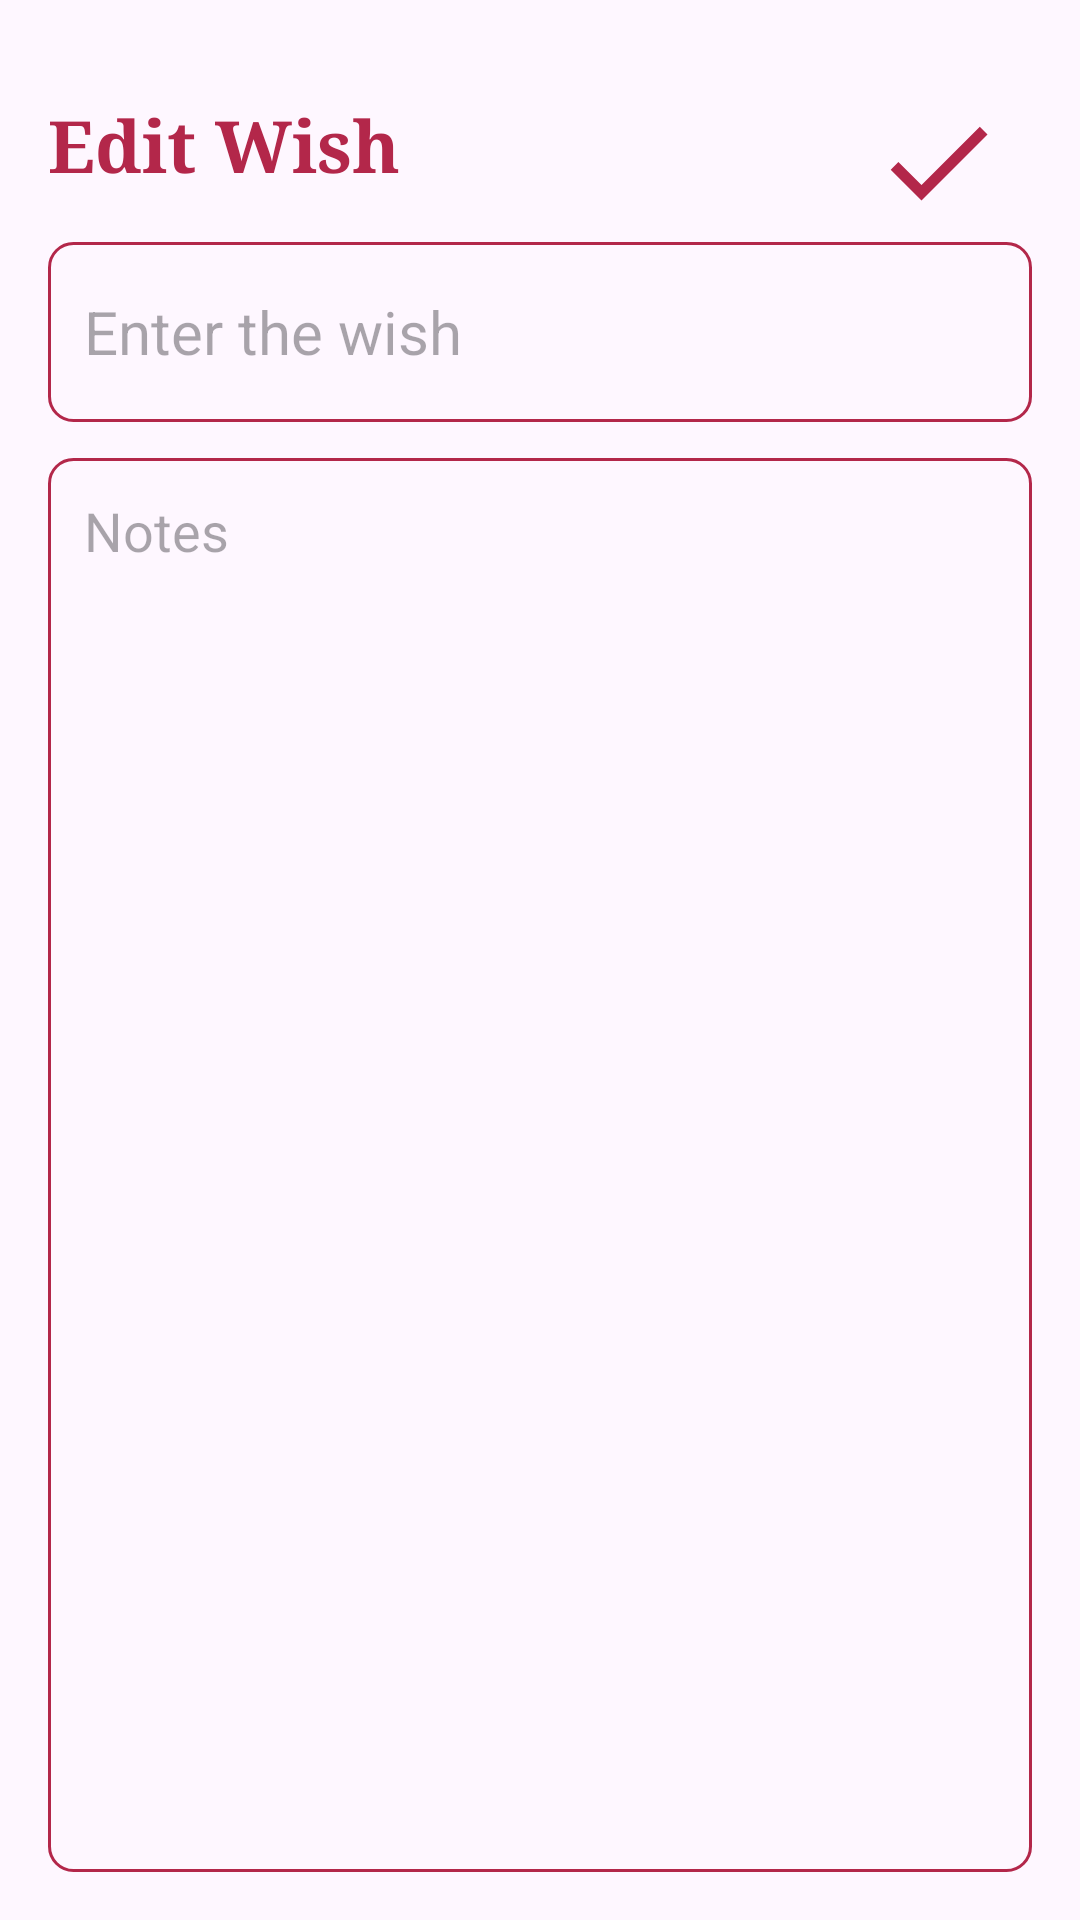

Locate icon controls on the screen. Image size 1080w x 1920h, boxes as {"left": x1, "top": y1, "right": x2, "bottom": y2}.
done: {"left": 891, "top": 127, "right": 988, "bottom": 201}
